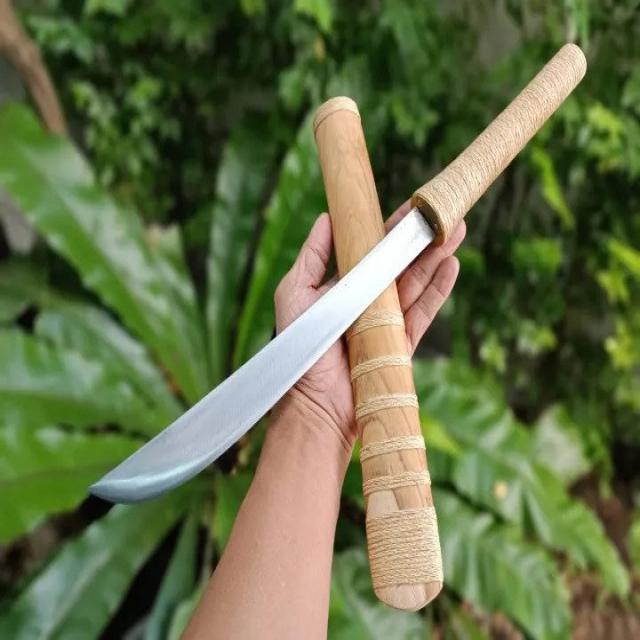short sword: (90, 36, 592, 614)
